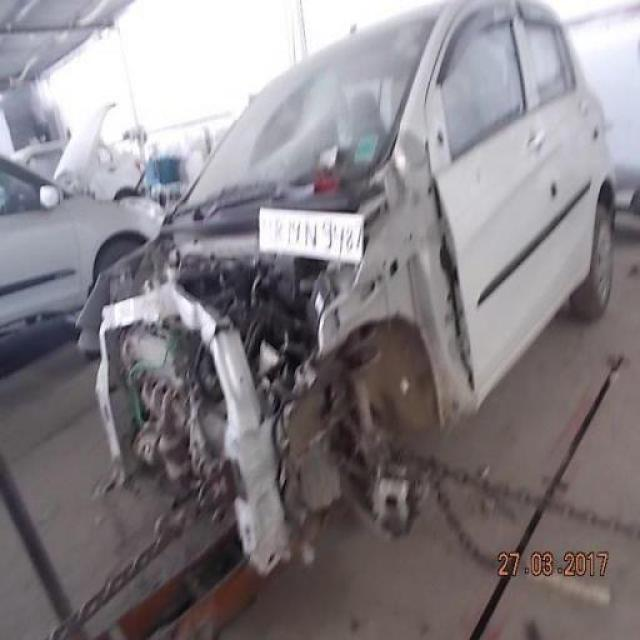crush: (91, 220, 469, 548)
